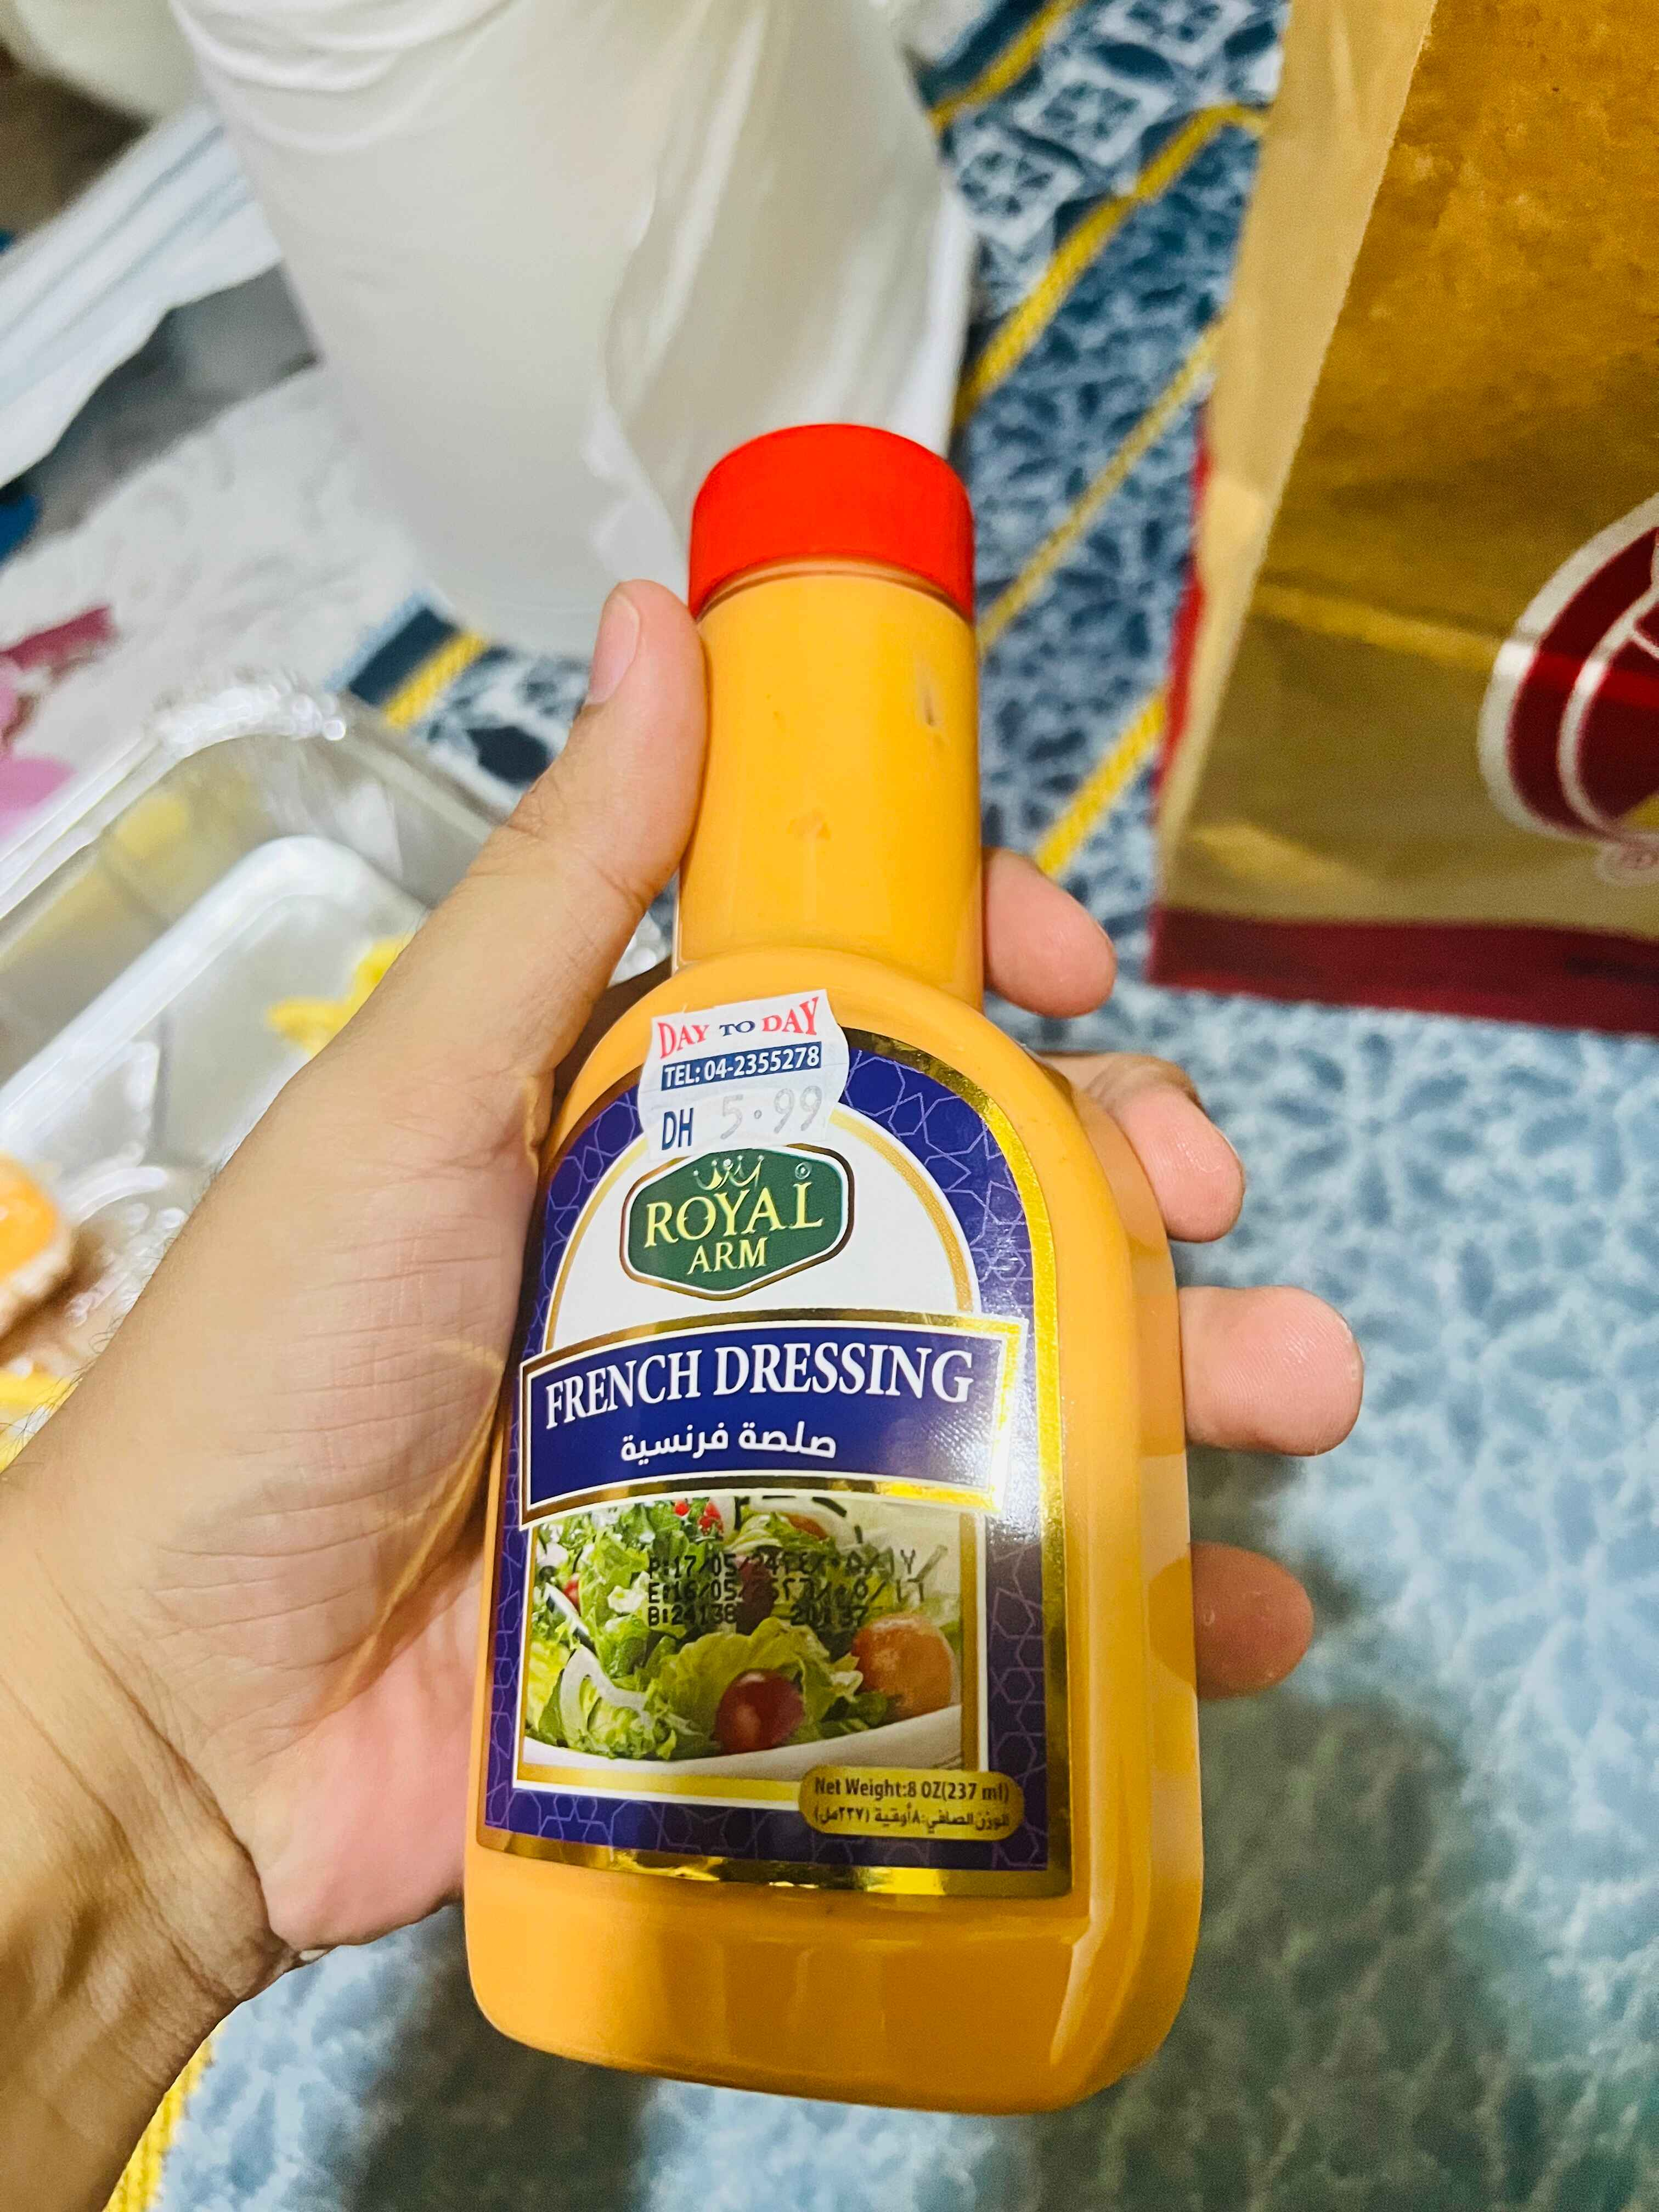PriceTagSmall: (640, 989, 856, 1148)
